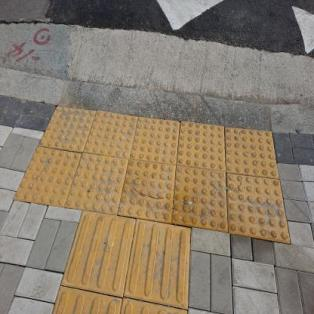Podoctatil: (11, 97, 294, 313)
